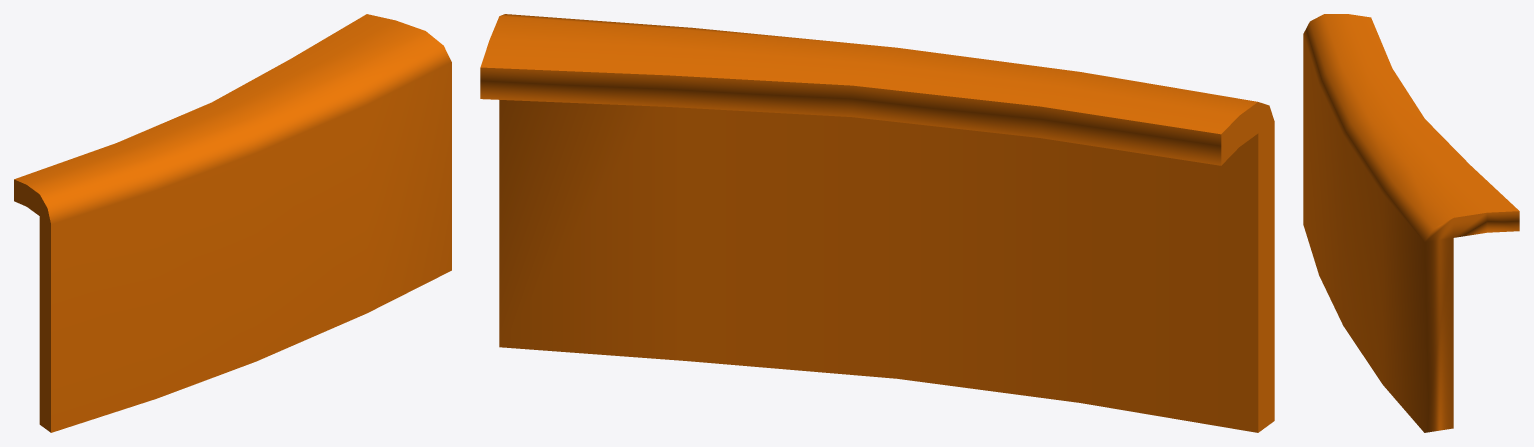
File: Plastic_Pipe_Entry_Right.fbx
The picture shows the model from 3 angles, left to right: view 1: azimuth 30°, elevation 25°; view 2: azimuth 150°, elevation 25°; view 3: azimuth 270°, elevation 25°; orthographic projection. The views are drawn at different scales.
Parts seen in each view (by area): view 1: Plastic_Pipe_Entry_Right; view 2: Plastic_Pipe_Entry_Right; view 3: Plastic_Pipe_Entry_Right.
Part boxes in pixels (x1,y1,x2,y2): Plastic_Pipe_Entry_Right: [14, 14, 451, 432]; Plastic_Pipe_Entry_Right: [480, 14, 1274, 432]; Plastic_Pipe_Entry_Right: [1303, 14, 1519, 432].
Bounding box in the file's own units: 5.24 × 2.47 × 2.3.
